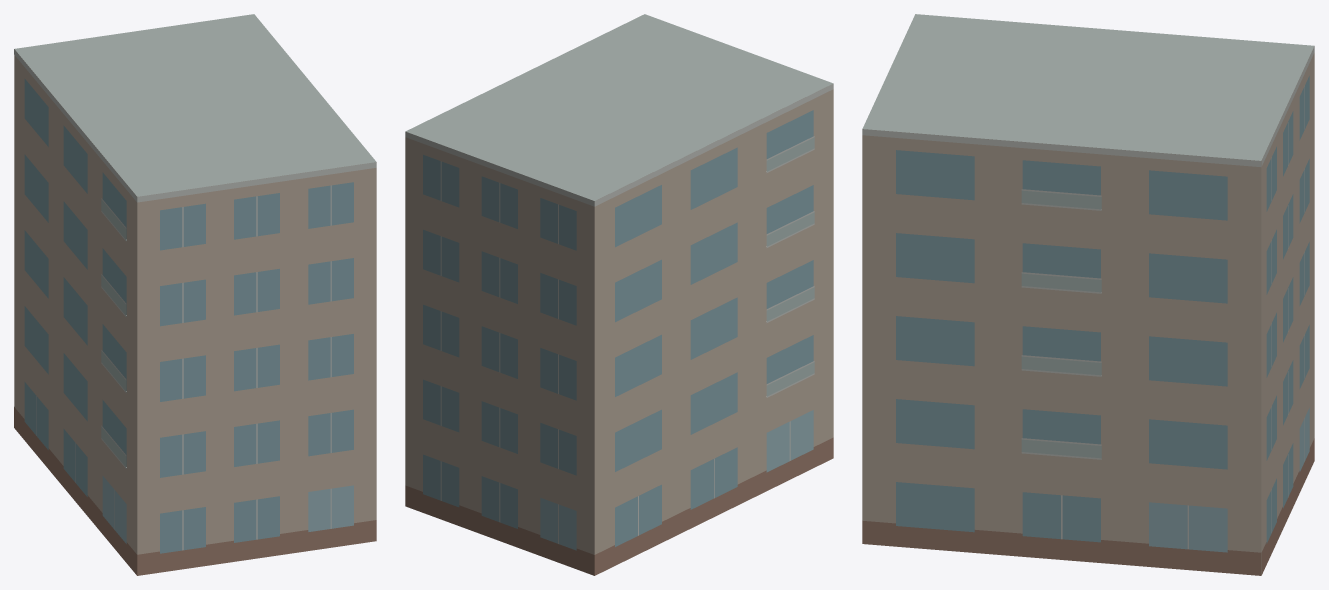
Rendered from survey-upis-32536510.glb.
3 views of the same model, side by side, from view 1: azimuth 30°, elevation 25°; view 2: azimuth 150°, elevation 25°; view 3: azimuth 270°, elevation 25° (orthographic). The views are drawn at different scales.
Parts seen in each view (by area): view 1: survey-upis-32536510.tmp; view 2: survey-upis-32536510.tmp; view 3: survey-upis-32536510.tmp.
Boxes of the visible parts, box(x1,y1,x2,y2) form: survey-upis-32536510.tmp: box(14, 14, 376, 575); survey-upis-32536510.tmp: box(405, 14, 833, 575); survey-upis-32536510.tmp: box(862, 14, 1314, 575).
Bounding box in the file's own units: 12.31 × 16.2 × 16.01.
